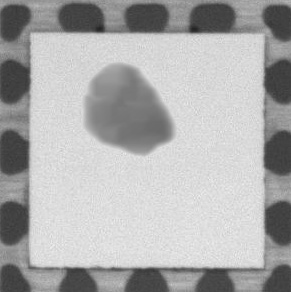DIE_INK: (83, 60, 176, 157)
